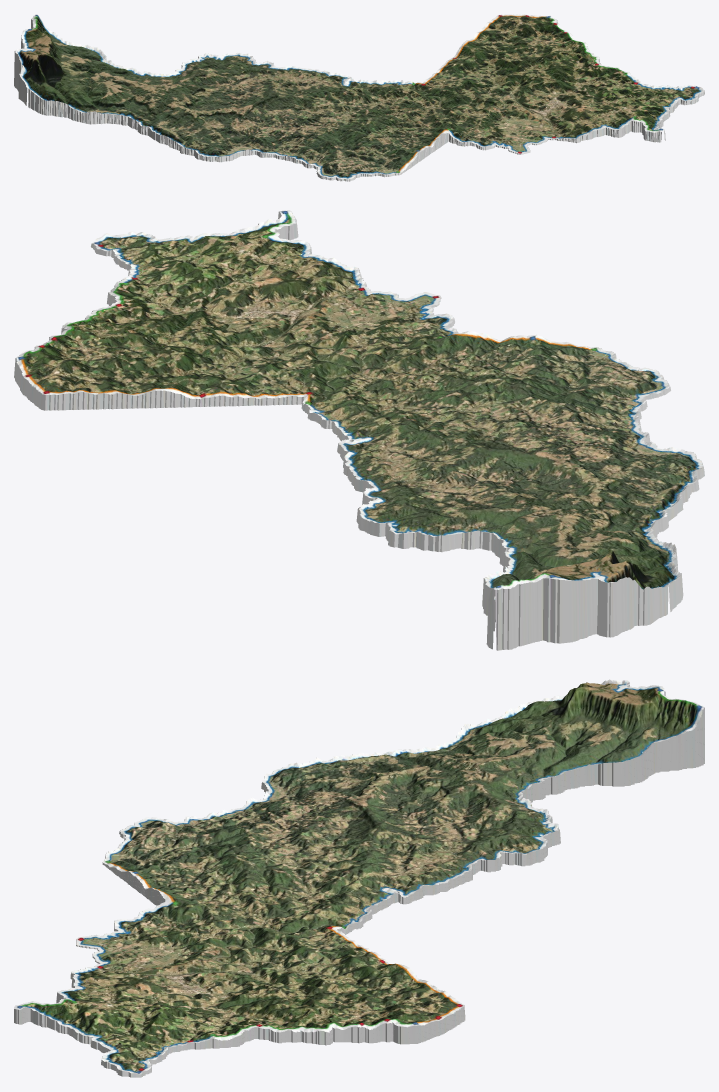
The picture shows the model from 3 angles, top to bottom: view 1: azimuth 30°, elevation 25°; view 2: azimuth 150°, elevation 25°; view 3: azimuth 270°, elevation 25°; orthographic projection. The views are drawn at different scales.
Bounding box in the file's own units: 0.9993 × 0.0757 × 0.8185.
1 material, 1 textured.
